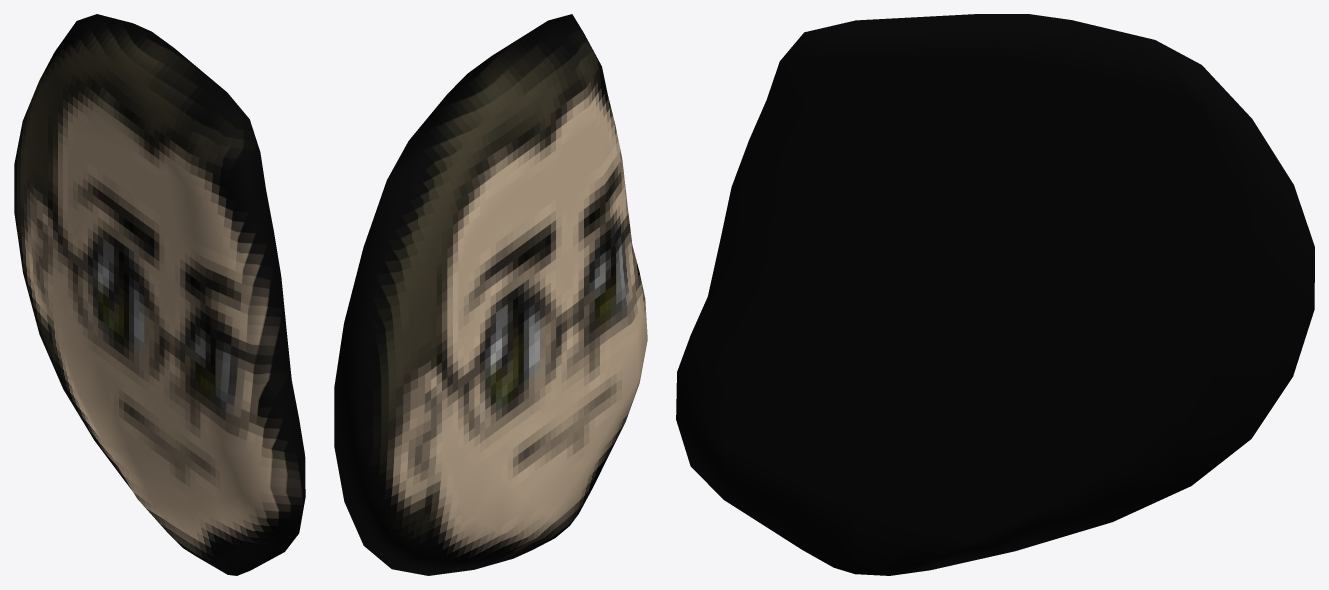
The model's file is SM_DrT_Head.fbx.
3 renders of one model, left to right at view 1: azimuth 30°, elevation 25°; view 2: azimuth 150°, elevation 25°; view 3: azimuth 270°, elevation 25°, orthographic. The views are drawn at different scales.
Visible parts, largest first — view 1: polySurface2; view 2: polySurface2; view 3: polySurface2.
Part boxes in pixels (x1=…): polySurface2: x1=14, y1=14, x2=305, y2=575; polySurface2: x1=334, y1=14, x2=647, y2=575; polySurface2: x1=676, y1=14, x2=1314, y2=575.
Bounding box in the file's own units: 1.25 × 15.27 × 14.83.
1 material, 1 textured.
